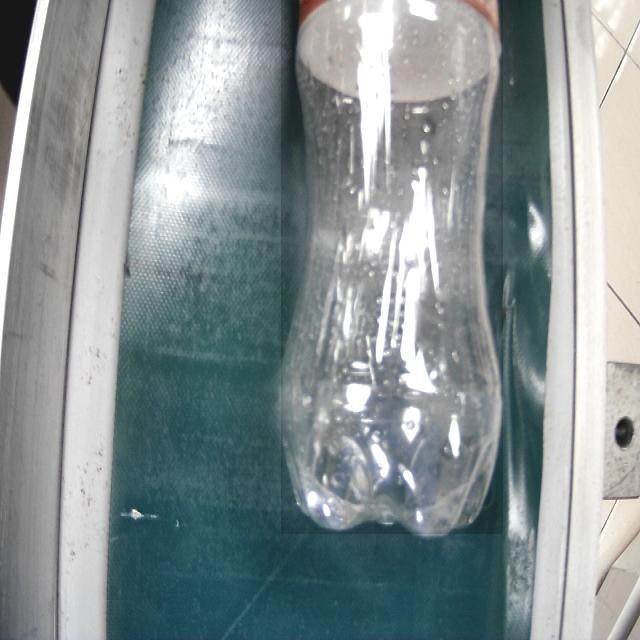Pet_Bottle: (281, 0, 503, 534)
